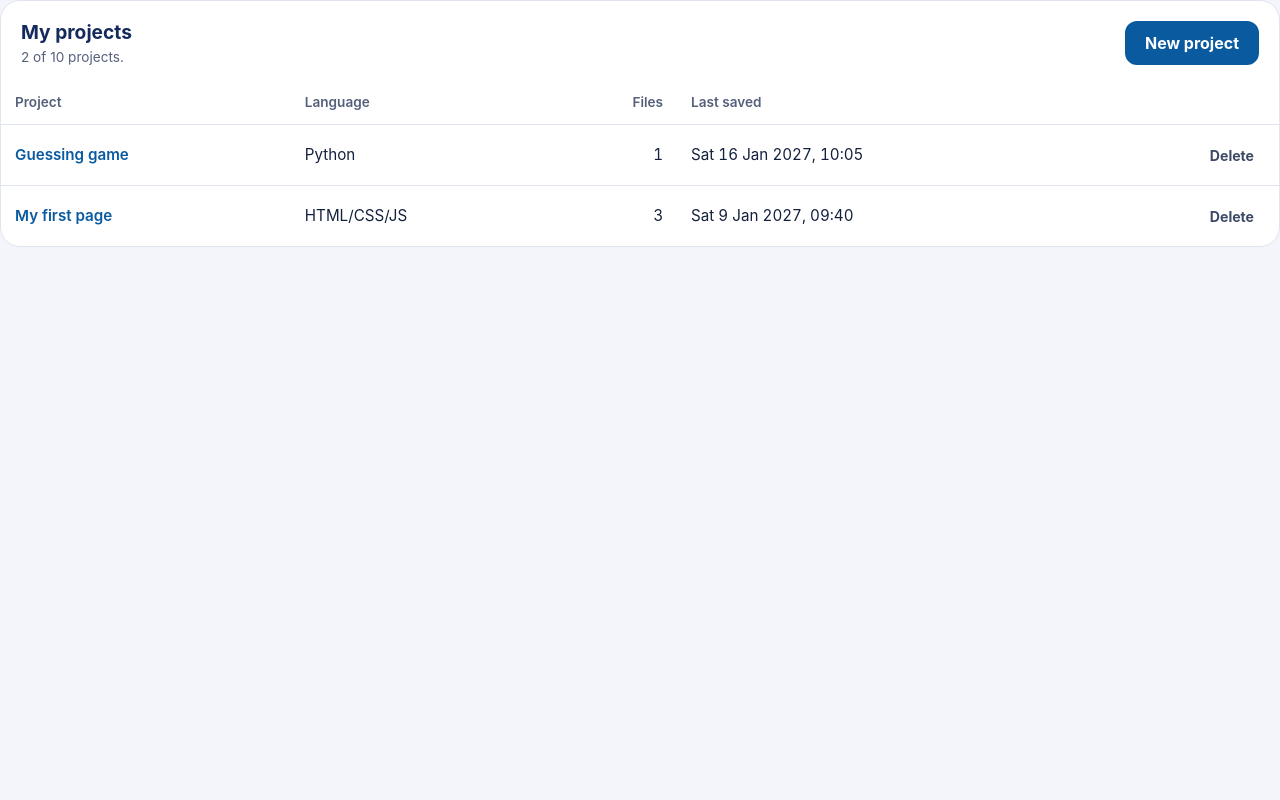
Test case: PlaygroundList › asks before deleting a project
This screenshot has width=1280, height=800.
What coordinates should you click on to do the following:
click the button with aria-label "Delete Guessing game"
I would click on:
 (1232, 155)
Its box is [1199,137,1265,173].
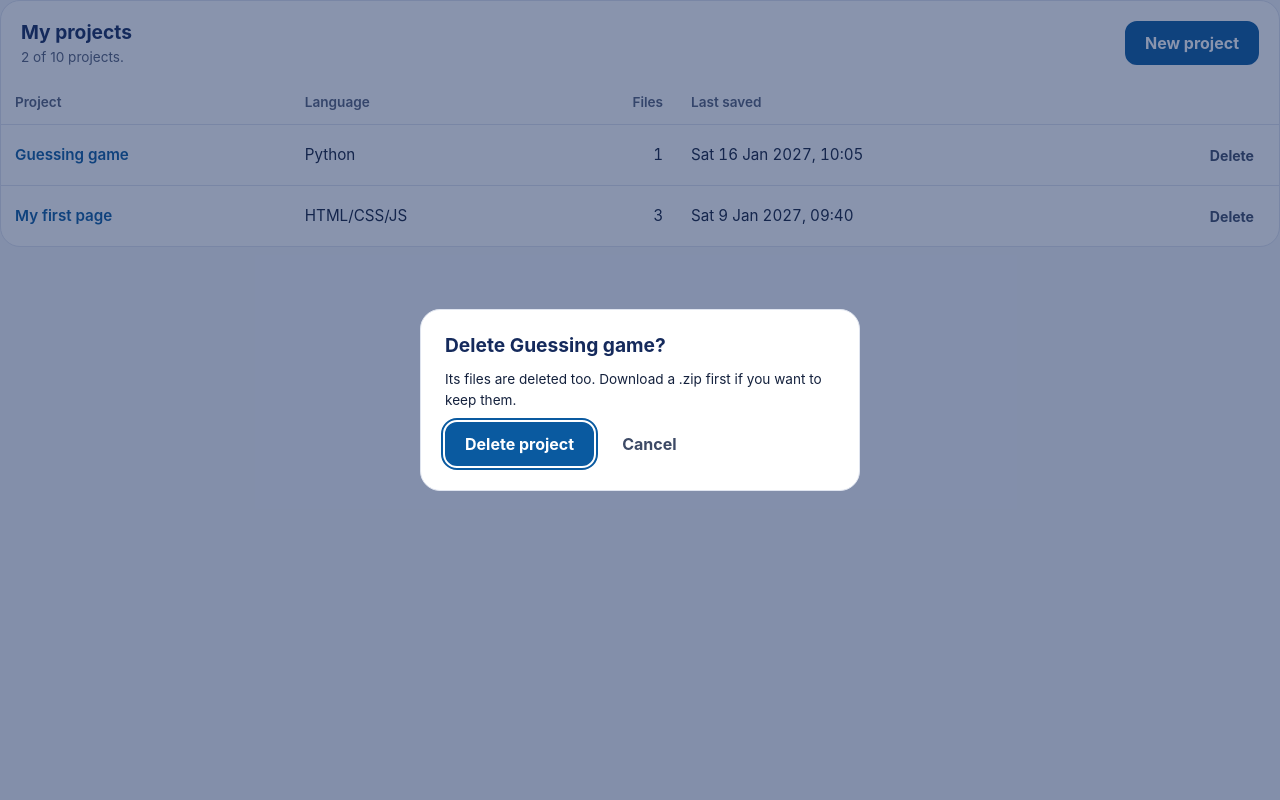
Check: the heading reads "Delete Guessing game?", box [445,333,666,357]
What coordinates should you click on to do the following:
click the button "Delete project"
I would click on:
 (520, 444)
Its box is [445,422,594,466].
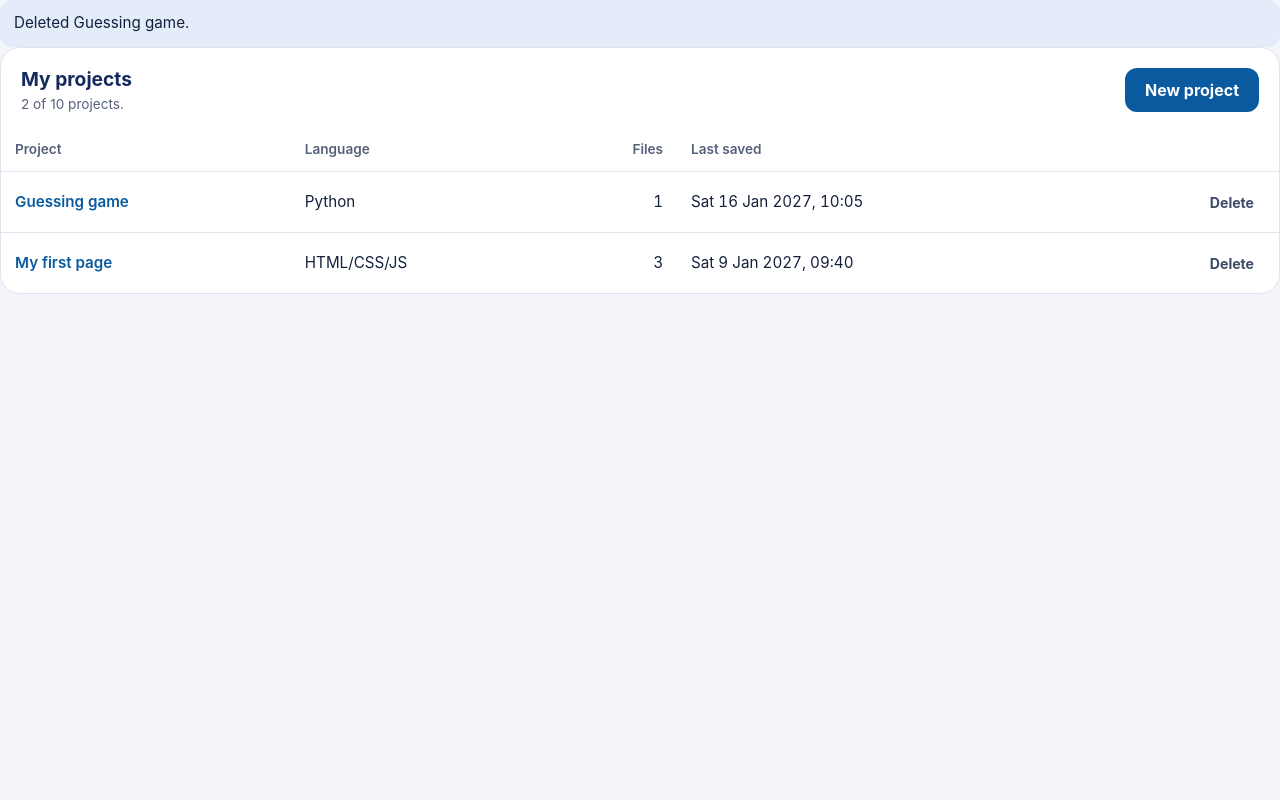
Check: the message reads "Deleted Guessing game.", box [14,13,189,32]
